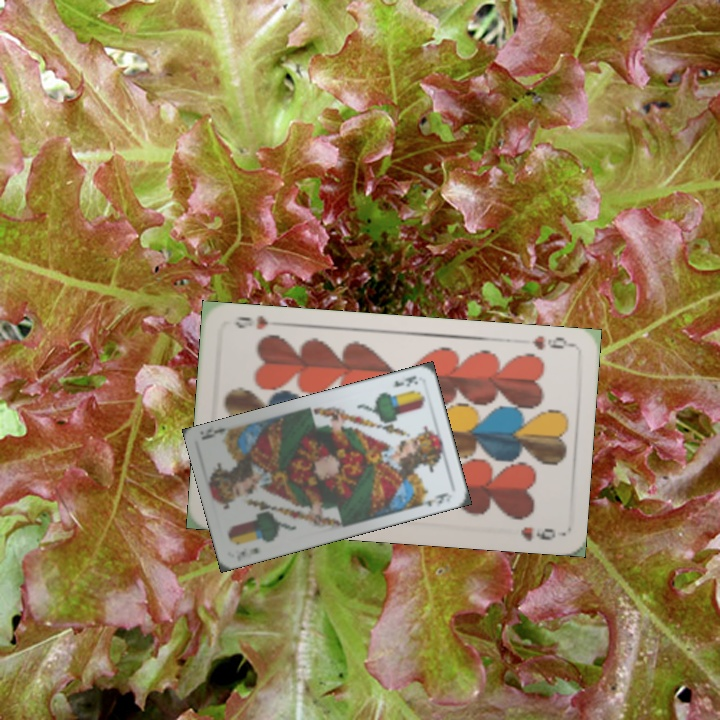EK: (388, 372, 421, 390), (233, 544, 262, 563)
H9: (528, 332, 574, 353)
